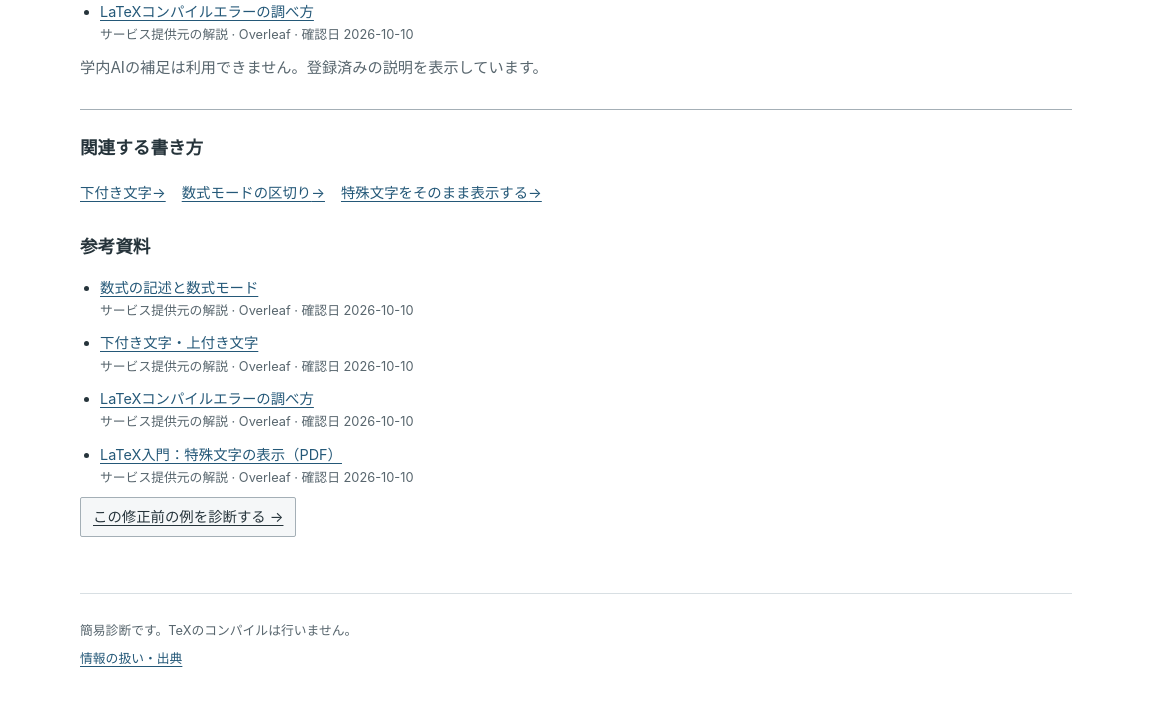
主要画面の操作 › 未設定AIと静的説明でも修正例を使える
(page scrolled)
Click the link "この修正前の例を診断する →": coordinates (188, 517) [80,497,296,537]
(page scrolled)
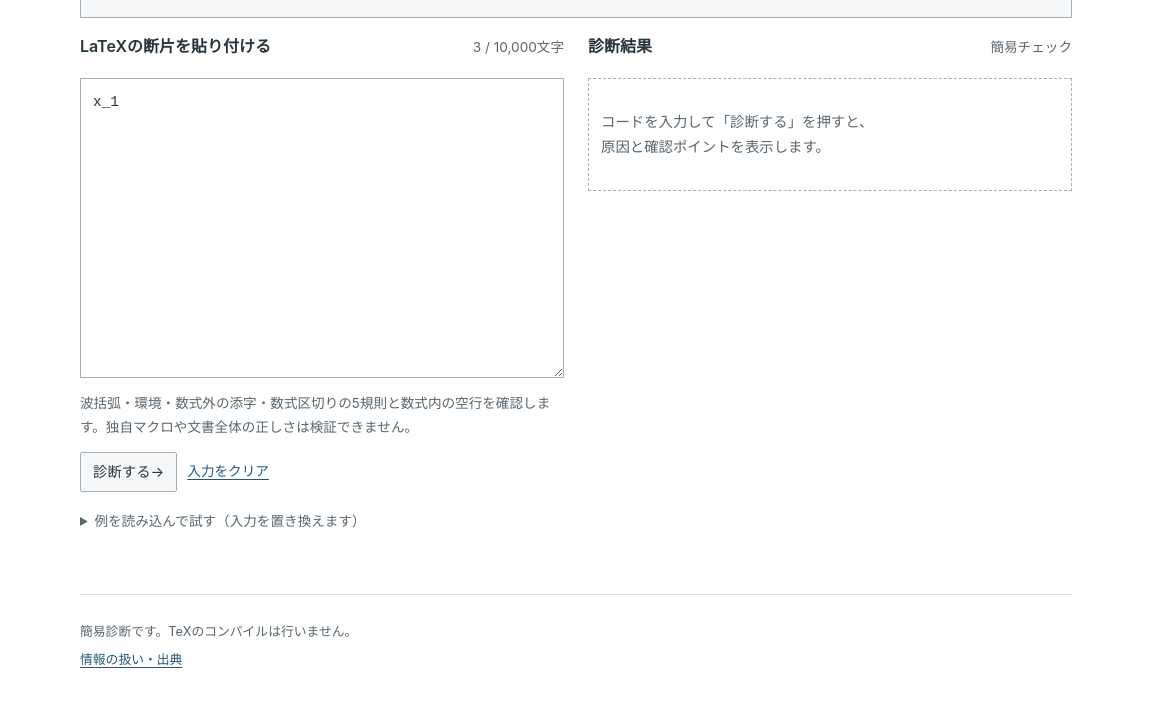
Expected: the text box holds "x_1", [80,78,564,378]
